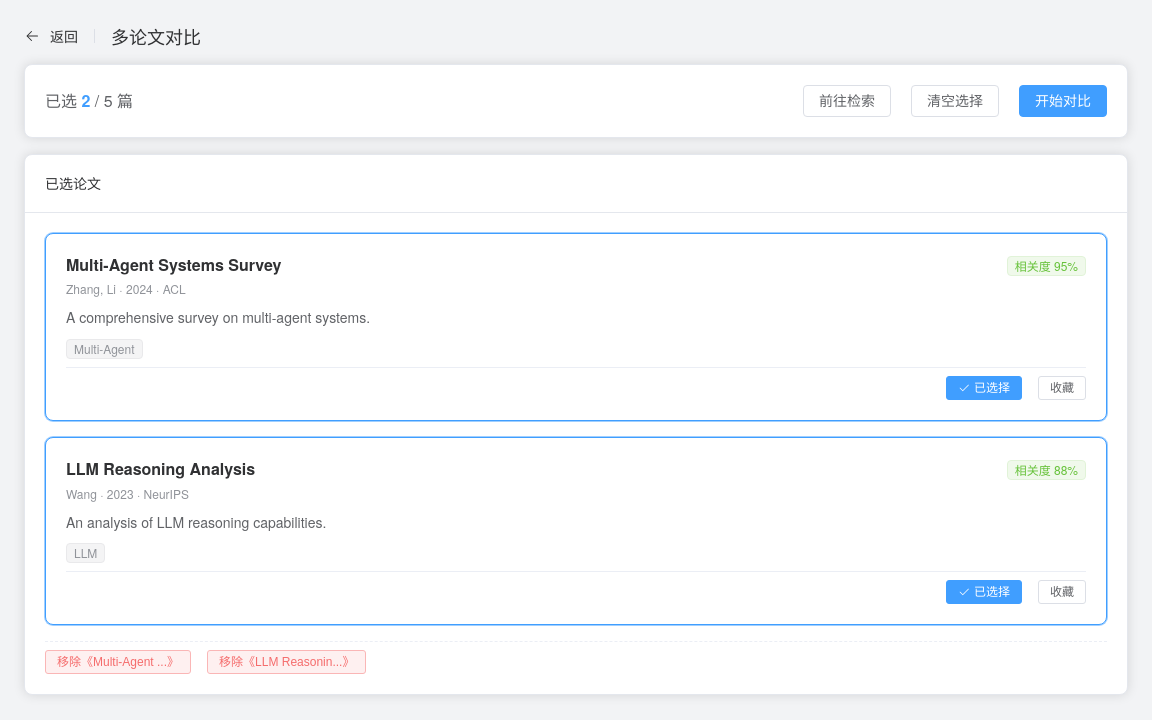
it: CompareView › 对比结果展示：渲染对比表格与总结
What coordinates should you click on to do the following:
click the button "开始对比"
I would click on:
 (1063, 101)
Its box is [1019, 85, 1107, 117].
(page scrolled)
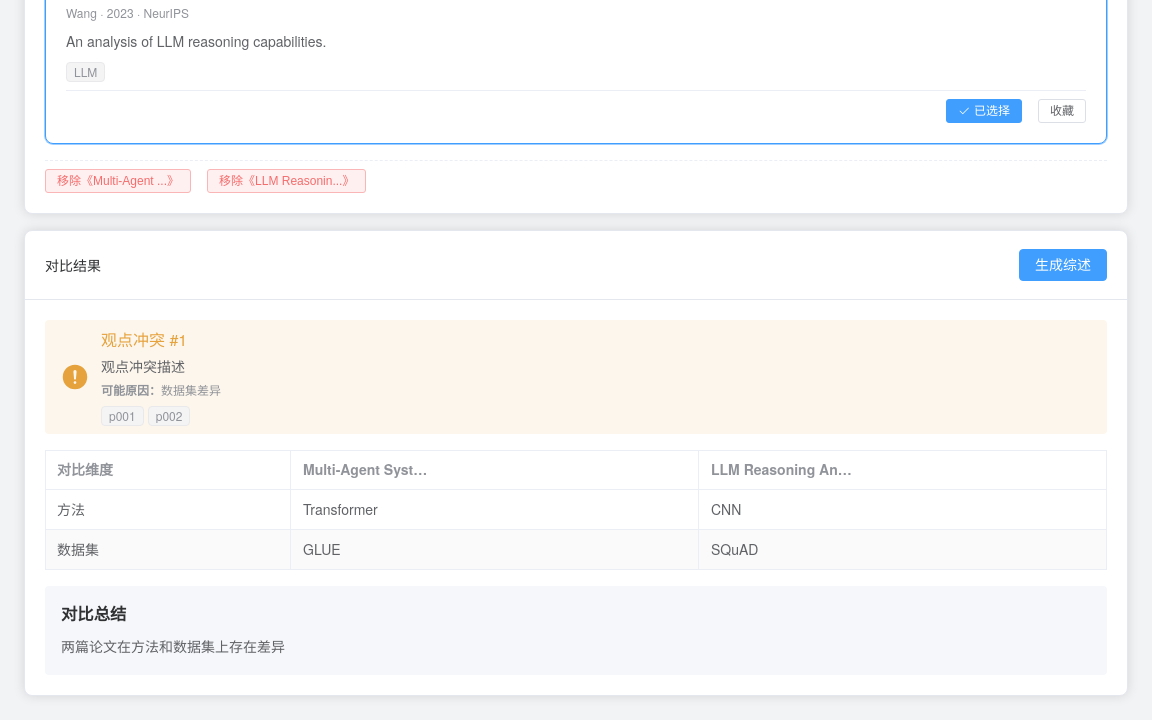
Expected: the element with class "compare-view__result" is shown
Expected: the element with class "compare-view__conflicts" is shown, [45, 320, 1107, 434]
Expected: the element with class "compare-view__summary" is shown, [45, 586, 1107, 675]
